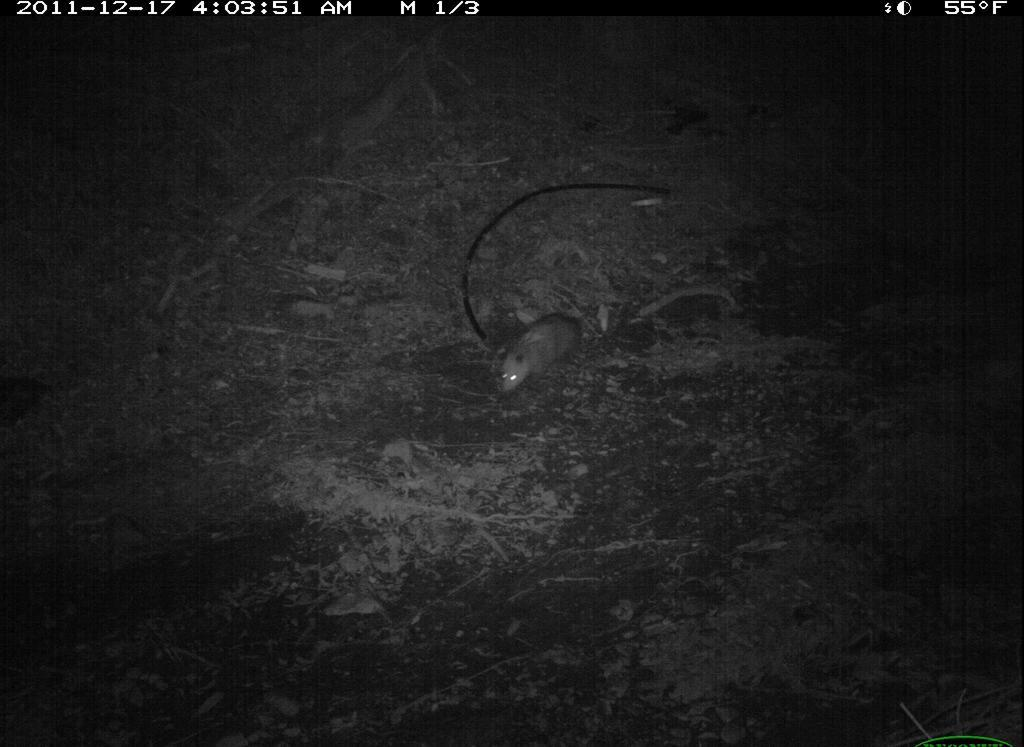opossum: (491, 305, 588, 408)
